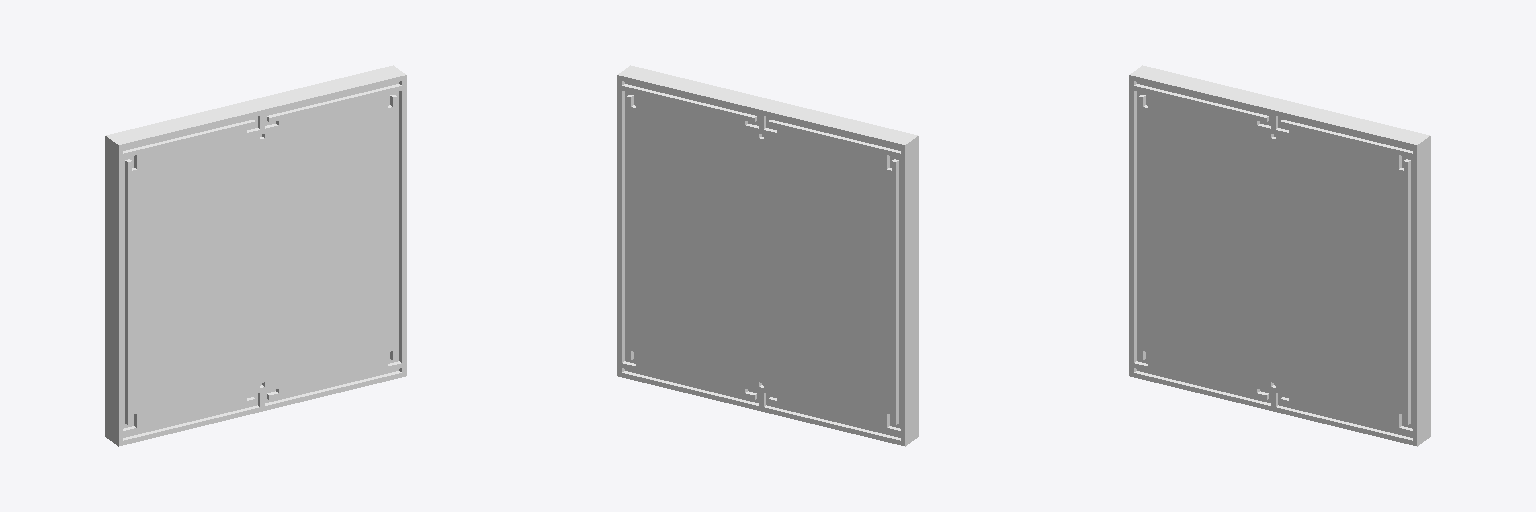
The model's file is MurMur.obj.
3 renders of one model, left to right at view 1: azimuth 30°, elevation 25°; view 2: azimuth 150°, elevation 25°; view 3: azimuth 330°, elevation 25°, orthographic.
Size of the model in its own units: 63 by 63 by 5.